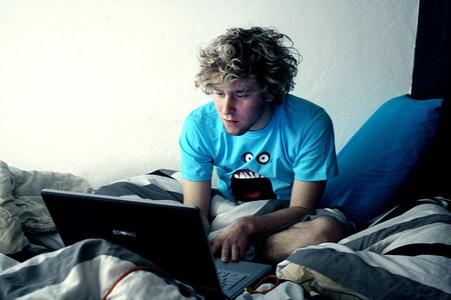person: (179, 26, 351, 263)
